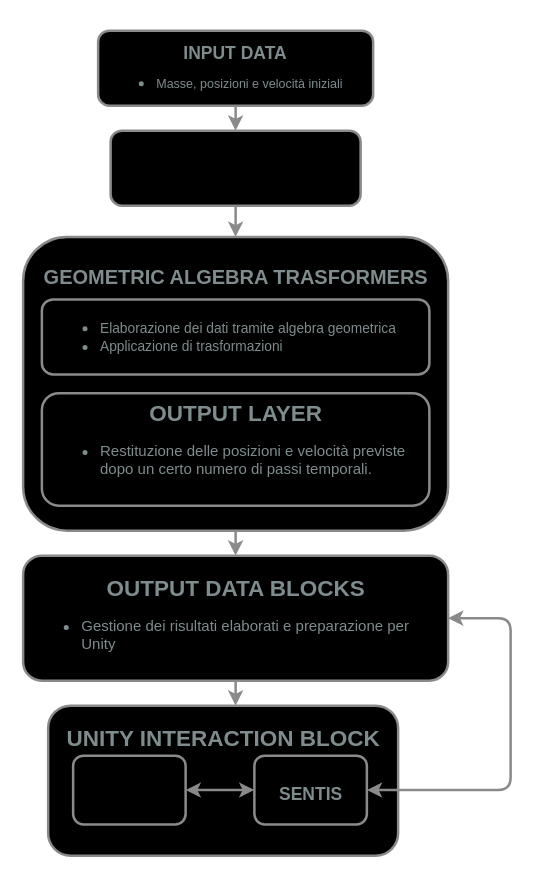
This 544x879 diagram has some shape labels left out. Here are the shapes that lost their labels. From the top down, the centre of each, then its label:
point (235, 167): DATA PROCESSING
point (128, 789): APPLICATION
